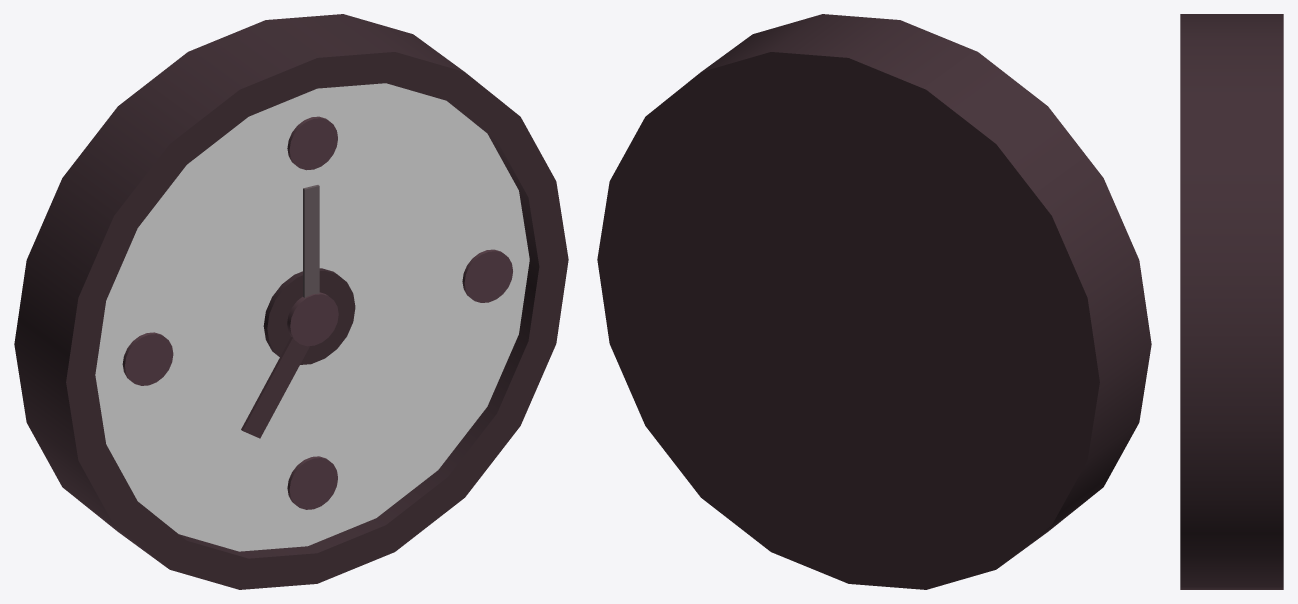
File: colored clock livingroom.fbx
The picture shows the model from 3 angles, left to right: view 1: azimuth 30°, elevation 25°; view 2: azimuth 150°, elevation 25°; view 3: azimuth 270°, elevation 25°; orthographic projection.
Visible parts, largest first — view 1: pCylinder2, pCylinder1, pCylinder3, pCube2, pCylinder4, pCylinder6, pCylinder7, pCylinder8, pCylinder5, pCube1; view 2: pCylinder1; view 3: pCylinder1.
Boxes of the visible parts, x1,y1,x2,y2 form: pCylinder2: [95, 83, 529, 551]; pCylinder1: [14, 14, 568, 589]; pCylinder3: [263, 268, 355, 364]; pCube2: [241, 336, 309, 438]; pCylinder4: [287, 292, 338, 346]; pCylinder6: [287, 456, 337, 509]; pCylinder7: [122, 332, 173, 385]; pCylinder8: [462, 249, 512, 302]; pCylinder5: [287, 116, 337, 170]; pCube1: [303, 185, 319, 297]; pCylinder1: [597, 14, 1151, 589]; pCylinder1: [1180, 14, 1283, 589].
Size of the model in its own units: 0.6951 by 0.6951 by 0.1239.
